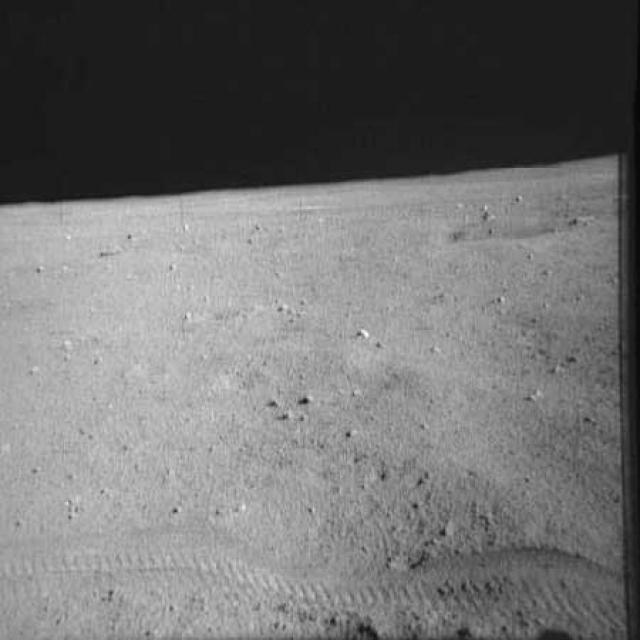crater: (274, 203, 586, 264)
rock: (346, 324, 376, 342), (517, 388, 545, 406), (22, 359, 44, 381), (56, 336, 74, 355), (277, 411, 299, 425), (342, 423, 359, 441), (264, 396, 283, 412), (272, 302, 293, 316), (299, 391, 316, 407), (492, 294, 512, 304)
